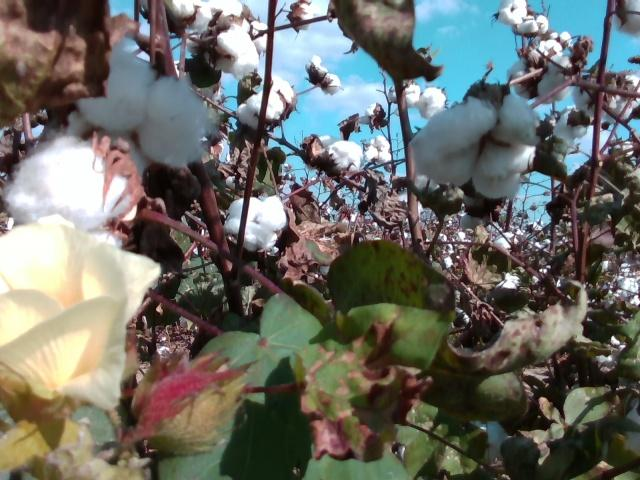cotton_ready: (50, 52, 208, 175), (5, 137, 136, 252), (411, 95, 541, 200), (157, 0, 261, 75), (508, 54, 580, 105), (234, 77, 294, 133), (227, 197, 285, 253), (573, 72, 616, 118), (608, 74, 640, 120), (307, 55, 342, 94), (326, 141, 362, 175), (554, 108, 589, 141), (613, 0, 640, 39), (512, 13, 549, 36), (360, 135, 391, 161), (497, 0, 528, 25), (289, 0, 312, 32)
